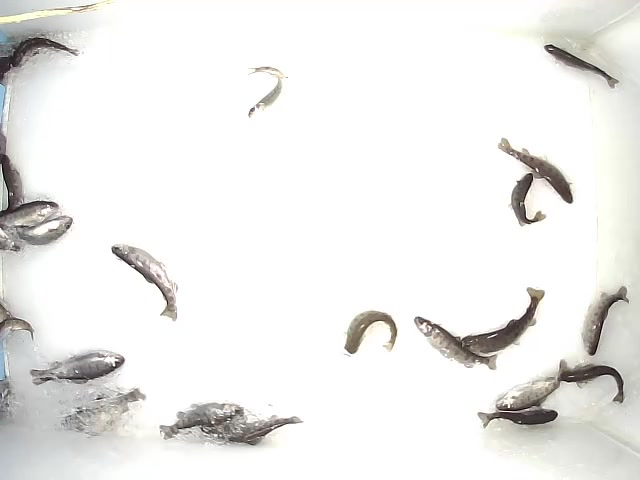fish: (459, 284, 548, 355), (110, 241, 180, 323), (414, 316, 505, 375), (497, 136, 575, 202), (59, 384, 148, 434), (578, 283, 630, 358), (30, 346, 125, 387), (491, 360, 569, 409), (542, 41, 618, 90), (198, 413, 305, 446), (555, 362, 628, 404), (242, 62, 289, 118), (342, 308, 398, 355), (475, 407, 563, 434), (10, 34, 80, 67), (512, 171, 548, 227)
